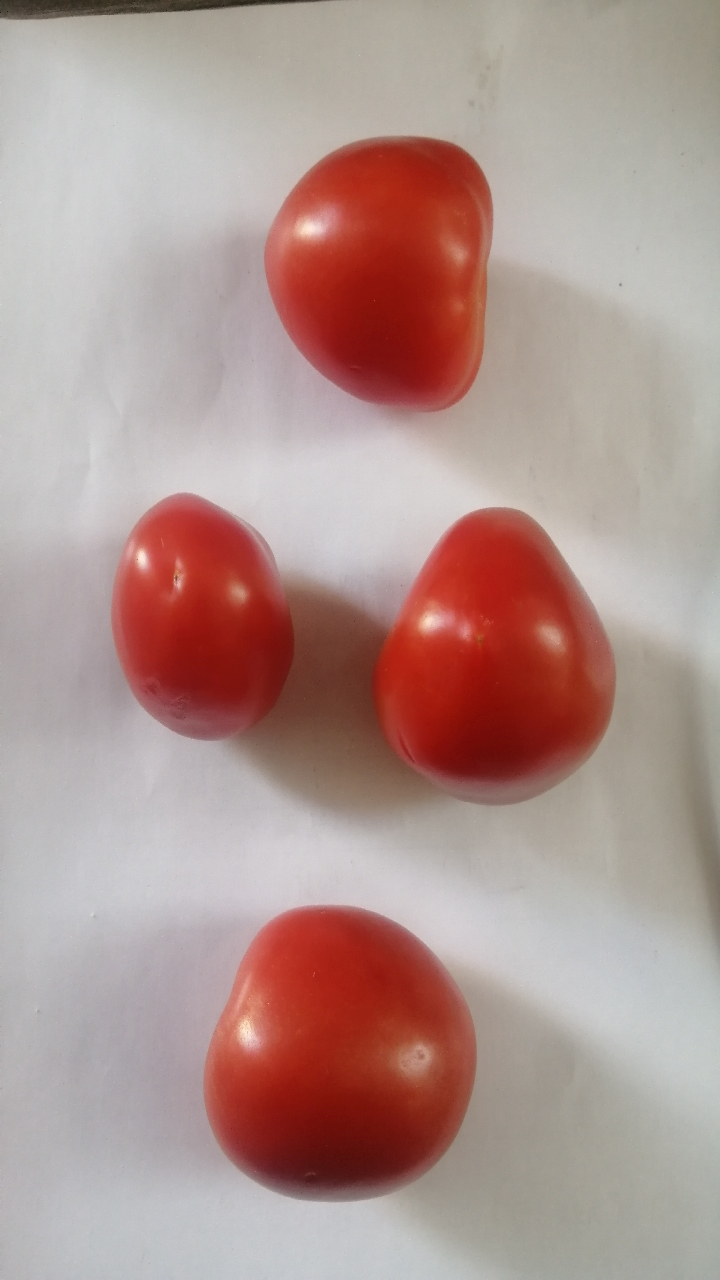tomateRojo: (178, 880, 486, 1208), (354, 488, 629, 826), (248, 119, 517, 422), (77, 465, 300, 771)
